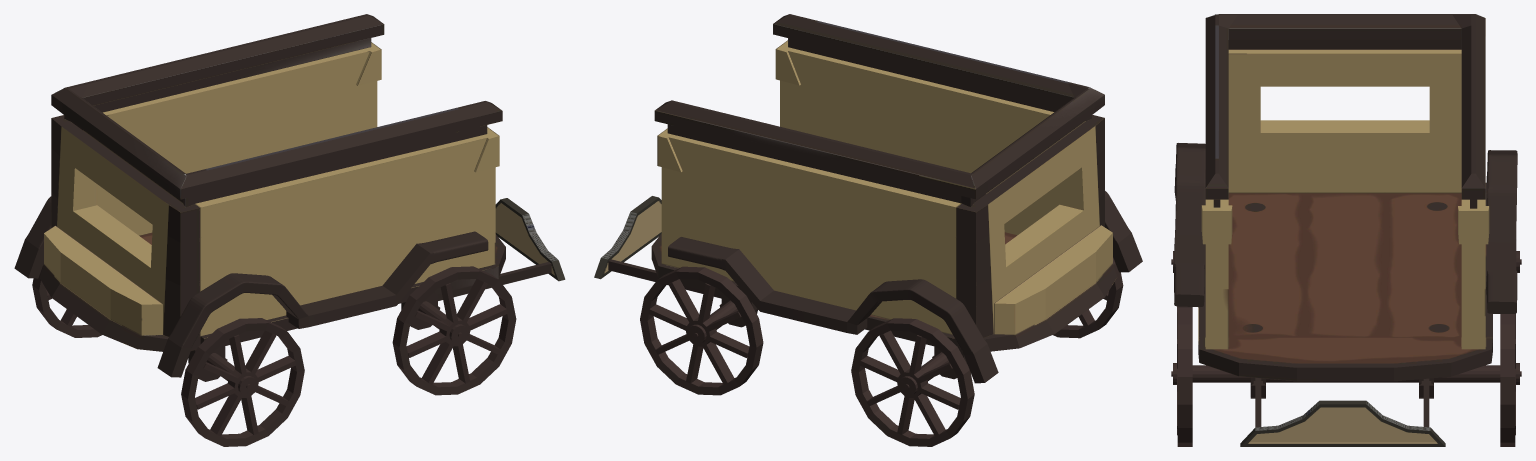
File: Carroca.glb
3 views of the same model, side by side, from view 1: azimuth 30°, elevation 25°; view 2: azimuth 150°, elevation 25°; view 3: azimuth 270°, elevation 25° (orthographic). The views are drawn at different scales.
Parts seen in each view (by area): view 1: Plane, Cylinder, Cylinder.001, Plane.001, Cube; view 2: Plane, Cylinder, Cylinder.001, Plane.001, Cube; view 3: Plane, Cylinder.001, Cylinder, Plane.001, Cube.
Part boxes in pixels (x1,y1,x2,y2): Plane: (39, 14, 505, 351); Cylinder: (32, 263, 516, 446); Cylinder.001: (14, 196, 488, 377); Plane.001: (495, 198, 565, 281); Cube: (401, 262, 551, 329); Plane: (651, 14, 1117, 353); Cylinder: (640, 257, 1123, 446); Cylinder.001: (668, 191, 1142, 383); Plane.001: (594, 196, 661, 279); Cube: (608, 259, 758, 327); Plane: (1198, 14, 1492, 381); Cylinder.001: (1174, 143, 1517, 313); Cylinder: (1171, 251, 1521, 446); Plane.001: (1240, 400, 1445, 446); Cube: (1250, 377, 1433, 427).
Size of the model in its own units: 7.54 by 4.39 by 4.79.
6 materials, 6 textured.
